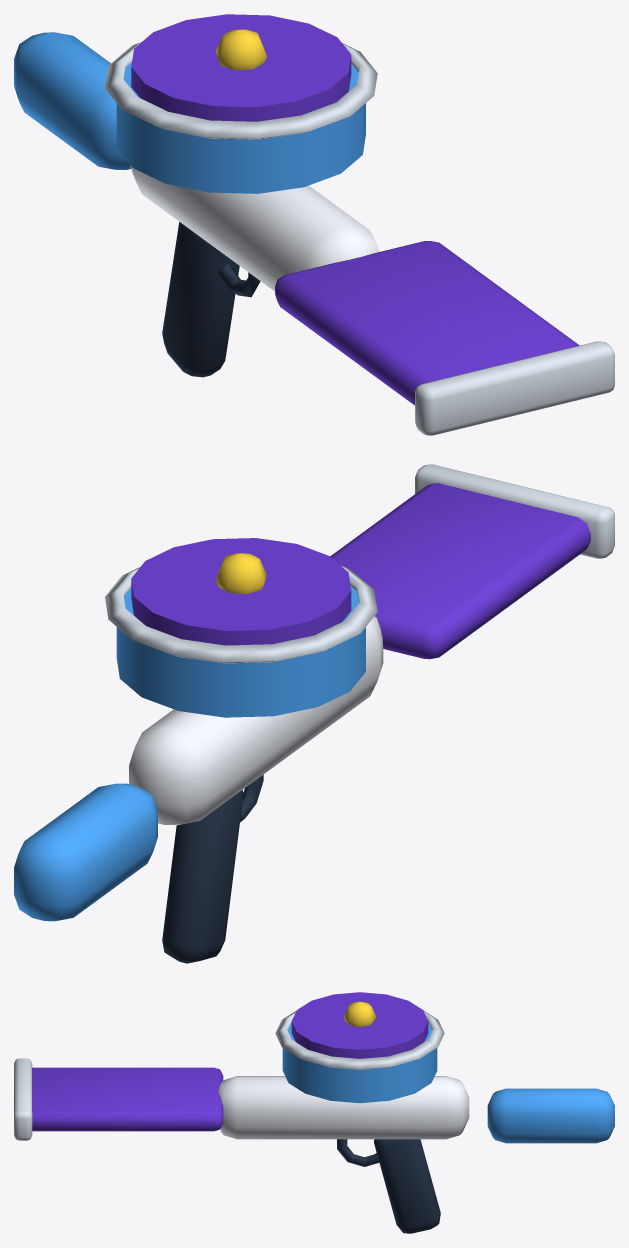
Rendered from RippleDisc.fbx.
3 views of the same model, one above another, from view 1: azimuth 30°, elevation 25°; view 2: azimuth 150°, elevation 25°; view 3: azimuth 270°, elevation 25° (orthographic). The views are drawn at different scales.
Parts seen in each view (by area): view 1: RippleDisc; view 2: RippleDisc; view 3: RippleDisc.
Part boxes in pixels (bbox=[...]): RippleDisc: bbox=[14, 14, 614, 435]; RippleDisc: bbox=[14, 464, 614, 963]; RippleDisc: bbox=[14, 992, 614, 1233].
Size of the model in its own units: 0.186 by 0.2787 by 0.66.
